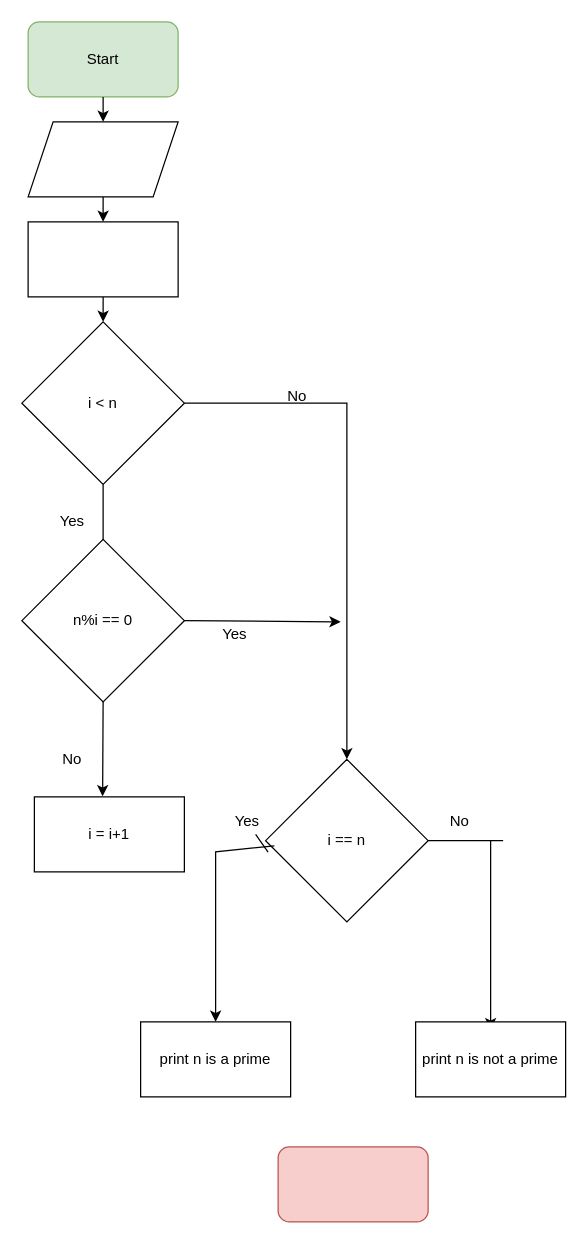
Image size: 588x1244. Some labels were removed from this diagram. The shapes that lost their labels are listed below. From the top down, each one's box as (x1, y1, x2, y2) in pixels, then its label:
(27, 121, 178, 197): Read n
(27, 221, 178, 297): i = 2
(277, 1146, 428, 1222): End
